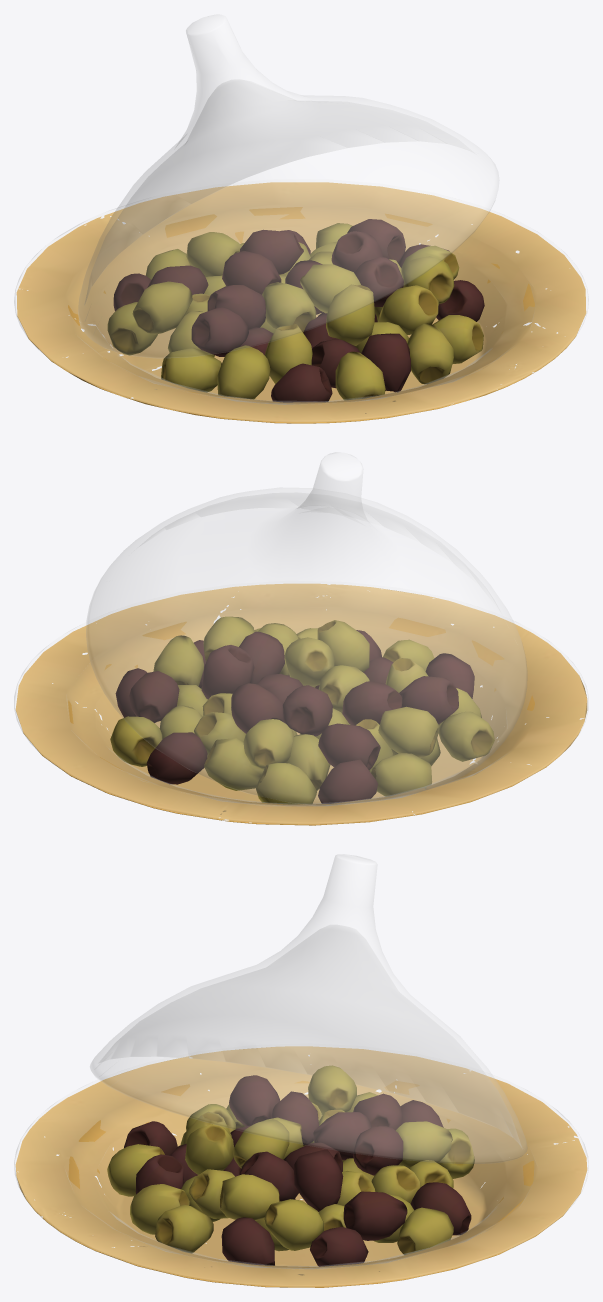
The model's file is IridescentDishWithOlives.glb.
3 renders of one model, top to bottom at view 1: azimuth 30°, elevation 25°; view 2: azimuth 150°, elevation 25°; view 3: azimuth 270°, elevation 25°, orthographic.
Visible parts, largest first — view 1: glassCover, goldLeaf, glassDish, olives; view 2: glassCover, goldLeaf, glassDish, olives; view 3: glassCover, goldLeaf, olives, glassDish.
Part boxes in pixels (x1,y1,x2,y2): glassCover: (78, 14, 499, 358); goldLeaf: (16, 182, 586, 423); glassDish: (14, 180, 588, 421); olives: (107, 219, 484, 402); glassCover: (86, 452, 527, 805); goldLeaf: (15, 583, 587, 825); glassDish: (14, 581, 588, 824); olives: (110, 616, 494, 804); glassCover: (90, 854, 527, 1163); goldLeaf: (15, 1046, 587, 1287); olives: (107, 1065, 474, 1266); glassDish: (14, 1057, 588, 1286).
Size of the model in its own units: 0.4593 by 0.2848 by 0.4593.
4 materials, 2 textured.
